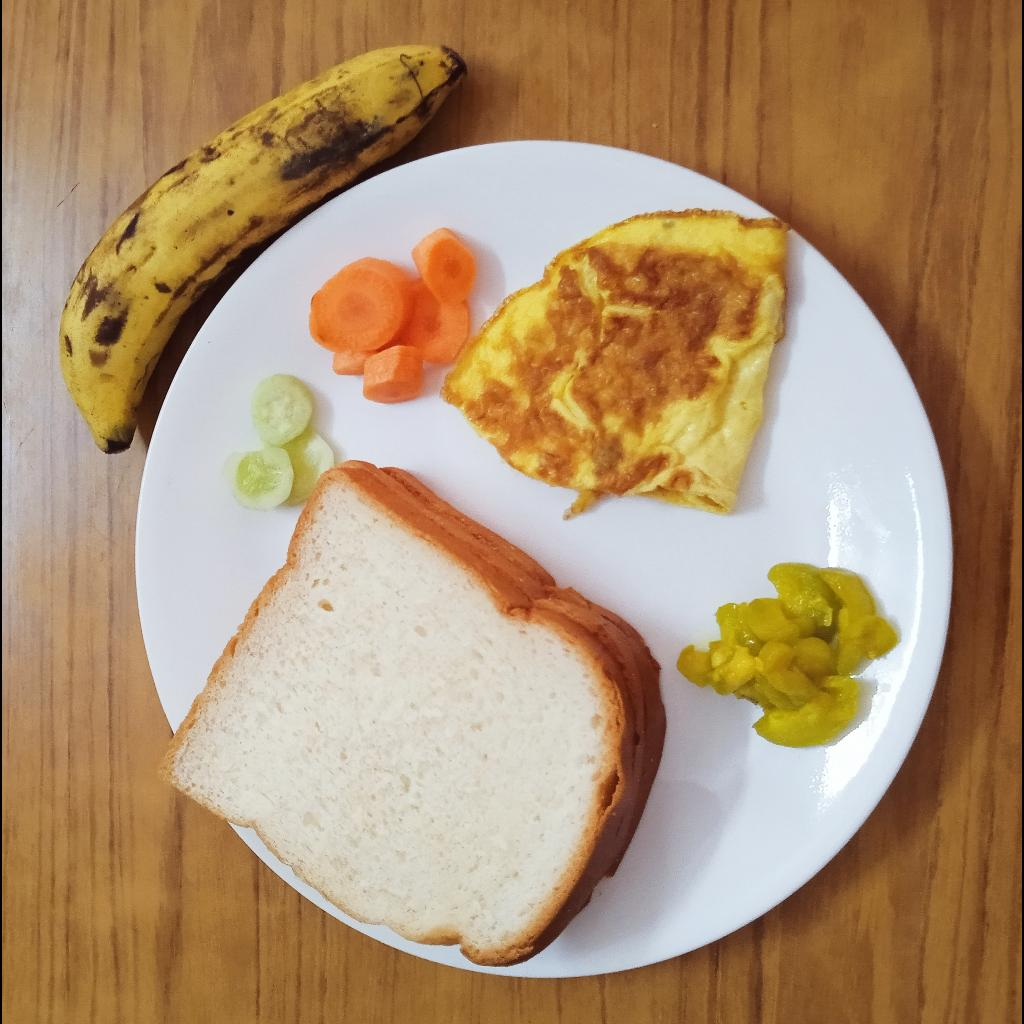banana: (55, 38, 472, 456)
bread: (149, 461, 669, 972)
carrot: (311, 226, 477, 409)
cucumber: (228, 373, 334, 507)
egg-poached: (440, 207, 788, 519)
potol: (674, 565, 906, 749)
